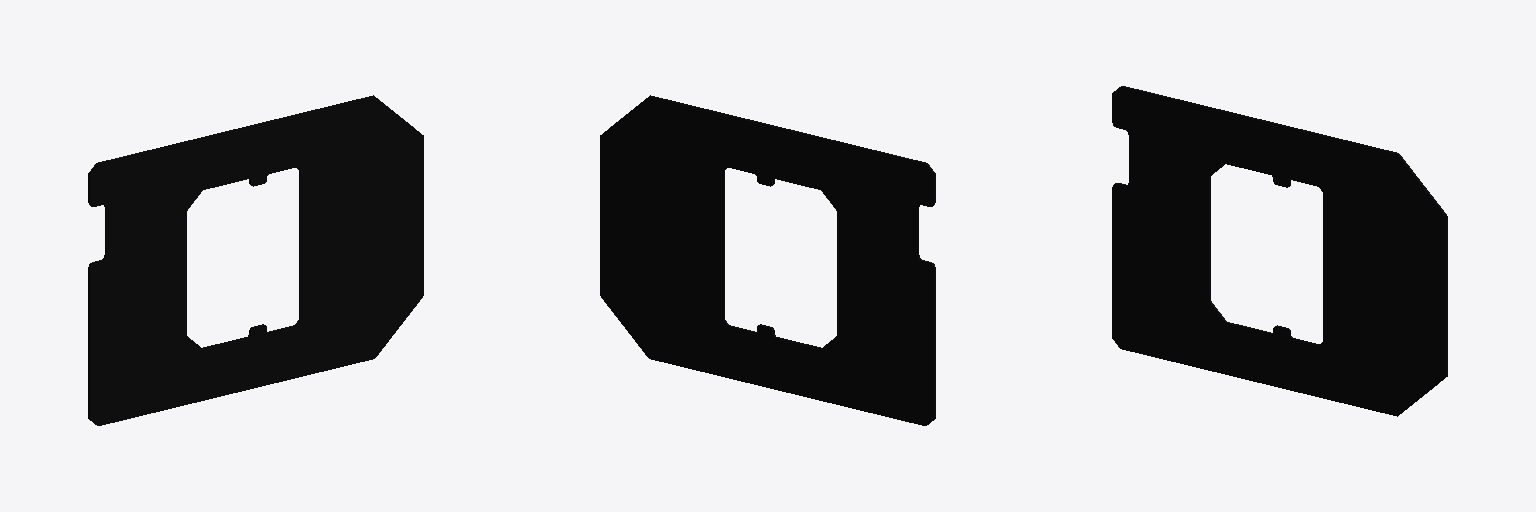
The model's file is large_top_plate.obj.
3 views of the same model, side by side, from view 1: azimuth 30°, elevation 25°; view 2: azimuth 150°, elevation 25°; view 3: azimuth 330°, elevation 25° (orthographic).
Visible parts, largest first — view 1: UR5_Top_Plate_UR5_Top_Plate; view 2: UR5_Top_Plate_UR5_Top_Plate; view 3: UR5_Top_Plate_UR5_Top_Plate.
Boxes of the visible parts, x1,y1,x2,y2 form: UR5_Top_Plate_UR5_Top_Plate: [88, 95, 423, 425]; UR5_Top_Plate_UR5_Top_Plate: [600, 95, 935, 425]; UR5_Top_Plate_UR5_Top_Plate: [1112, 86, 1447, 416].
Size of the model in its own units: 0.825 by 0.62 by 0.0067.